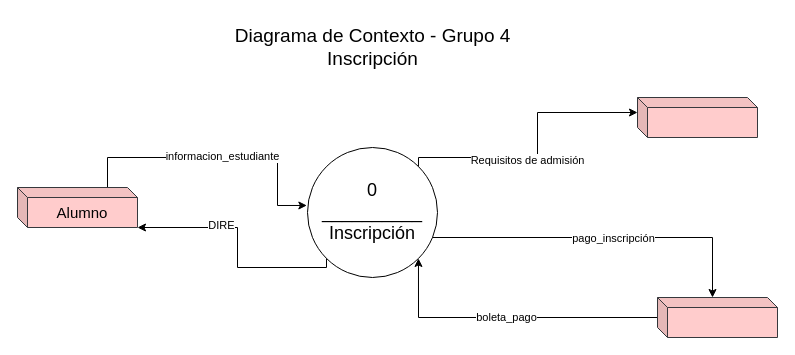
This 795x355 diagram has some shape labels left out. Here are the shapes that lost their labels. From the top down, the centre of each, then its label:
At point (697, 117): "Administración".
At point (717, 317): "Bancos".
